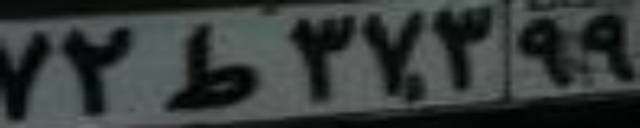2: (62, 25, 140, 116)
3: (287, 13, 356, 100), (436, 6, 497, 91)
7: (362, 10, 426, 95), (3, 28, 53, 121)
9: (518, 18, 577, 84), (580, 13, 635, 81)
taa: (165, 22, 262, 110)
